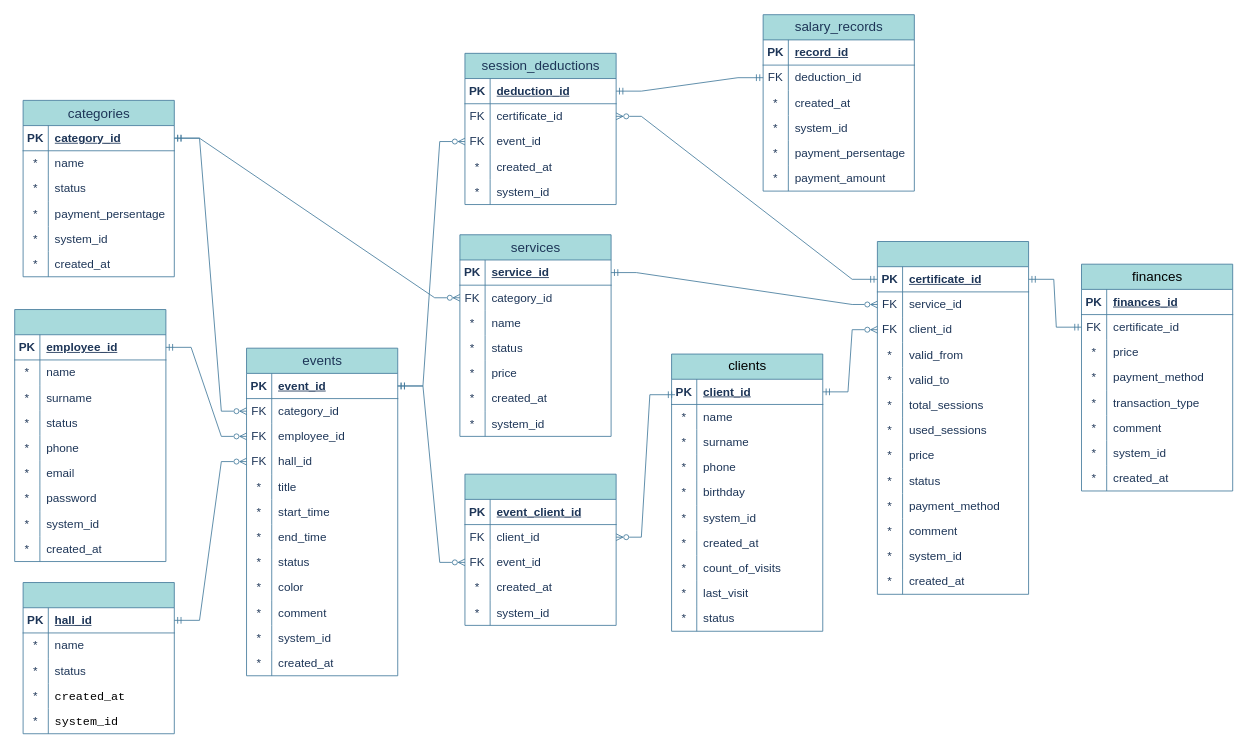
The diagram is 1247 pixels wide and 748 high, and some of its shapes have lost their labels. Here are the shapes that lost their labels. From the top down, the box of each, then its label:
(14, 309, 166, 562): employees
(877, 241, 1029, 594): certificates
(464, 473, 616, 625): event_clients
(22, 582, 174, 734): halls
